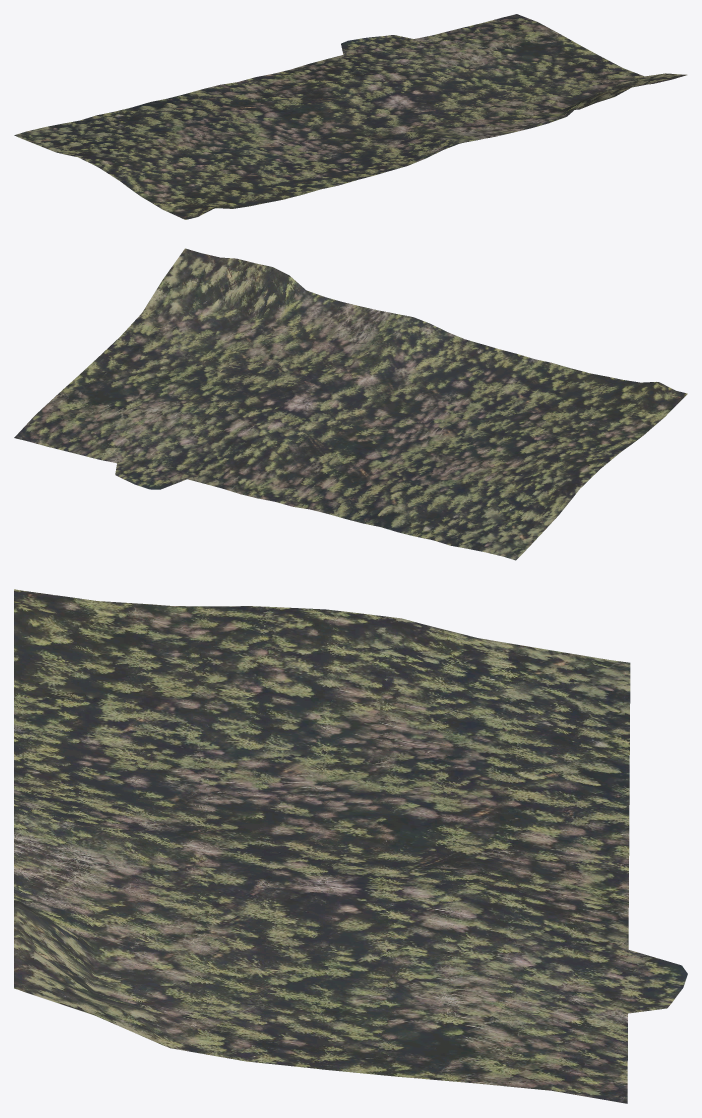
File: CM_Terrain_24490254_6823070.fbx
3 views of the same model, one above another, from view 1: azimuth 30°, elevation 25°; view 2: azimuth 150°, elevation 25°; view 3: azimuth 270°, elevation 25° (orthographic). The views are drawn at different scales.
Visible parts, largest first — view 1: CM_Terrain_24490254_6823070_LOD0; view 2: CM_Terrain_24490254_6823070_LOD0; view 3: CM_Terrain_24490254_6823070_LOD0.
Boxes of the visible parts, x1=… form: CM_Terrain_24490254_6823070_LOD0: x1=14, y1=14, x2=686, y2=219; CM_Terrain_24490254_6823070_LOD0: x1=14, y1=248, x2=687, y2=560; CM_Terrain_24490254_6823070_LOD0: x1=14, y1=589, x2=687, y2=1103.
Size of what is drawn, in the model's own units: 205 by 26.86 by 133.
